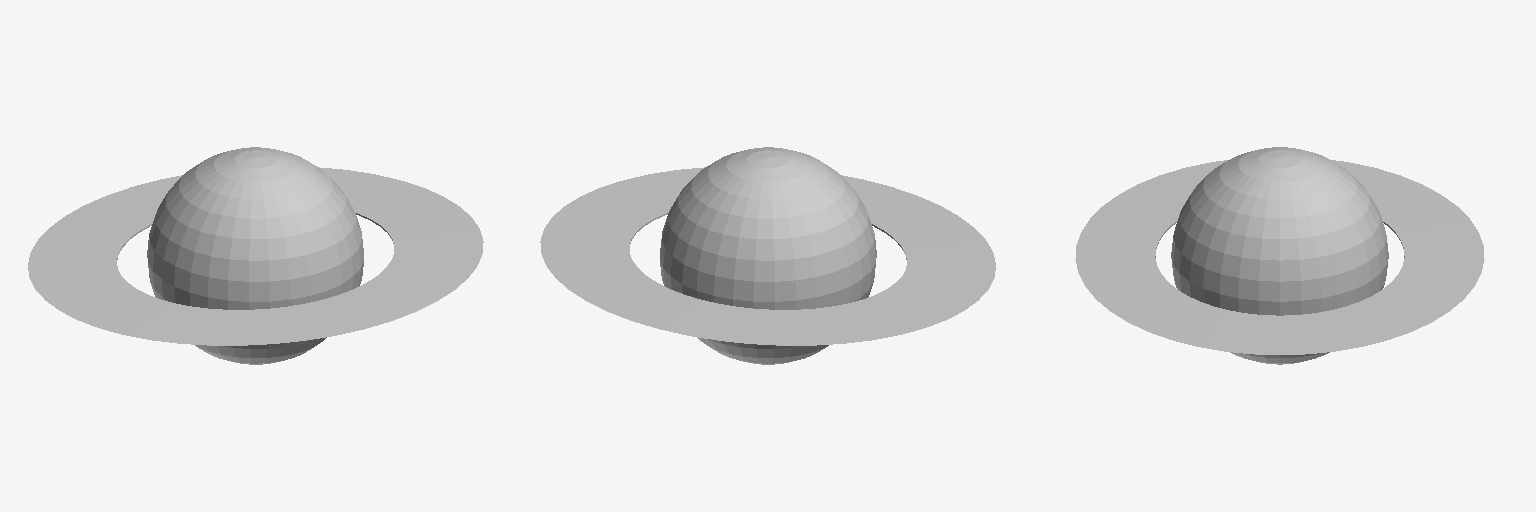
Rendered from SaturnWRing.obj.
3 renders of one model, left to right at view 1: azimuth 30°, elevation 25°; view 2: azimuth 150°, elevation 25°; view 3: azimuth 270°, elevation 25°, orthographic.
Parts seen in each view (by area): view 1: Ring_Torus.002, Saturn_Sphere; view 2: Ring_Torus.002, Saturn_Sphere; view 3: Ring_Torus.002, Saturn_Sphere.
Part boxes in pixels (bbox=[...]): Ring_Torus.002: bbox=[28, 167, 483, 345]; Saturn_Sphere: bbox=[147, 147, 363, 364]; Ring_Torus.002: bbox=[540, 167, 995, 345]; Saturn_Sphere: bbox=[660, 147, 876, 364]; Ring_Torus.002: bbox=[1075, 160, 1484, 354]; Saturn_Sphere: bbox=[1171, 147, 1388, 364].
Size of the model in its own units: 4.32 by 2 by 3.76.